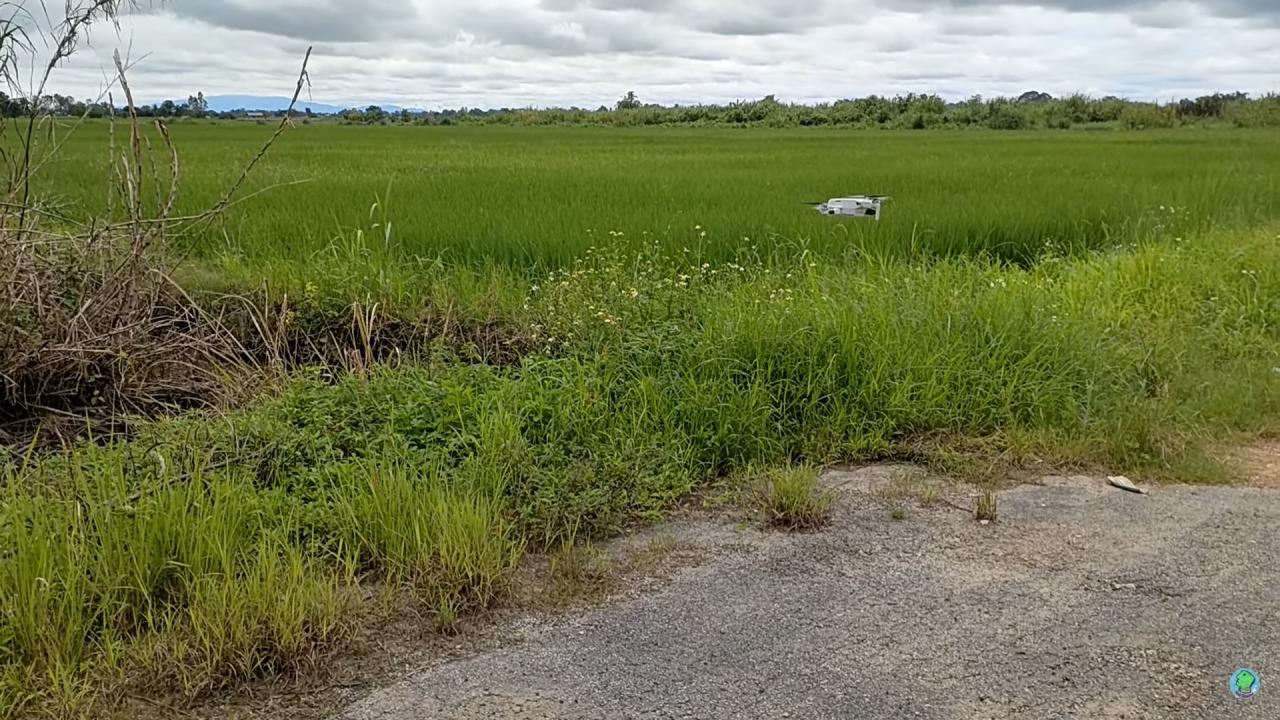Drone: (792, 185, 905, 229)
